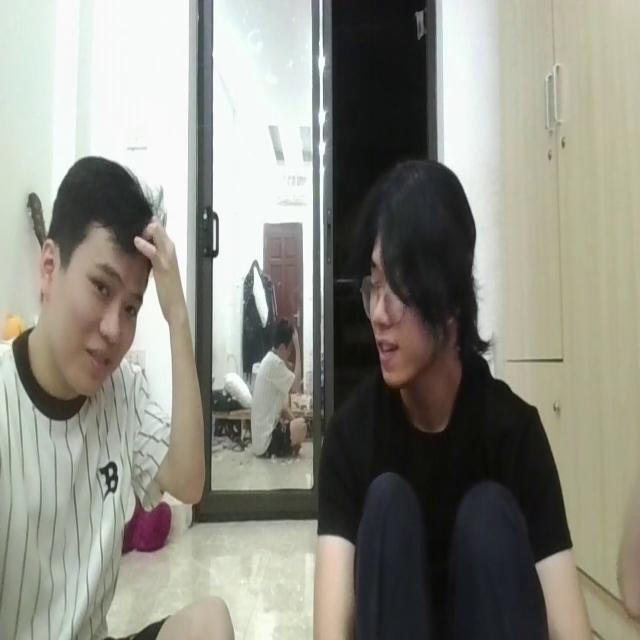extra_person: (0, 146, 233, 640), (245, 307, 313, 468)
student: (323, 150, 583, 640)
